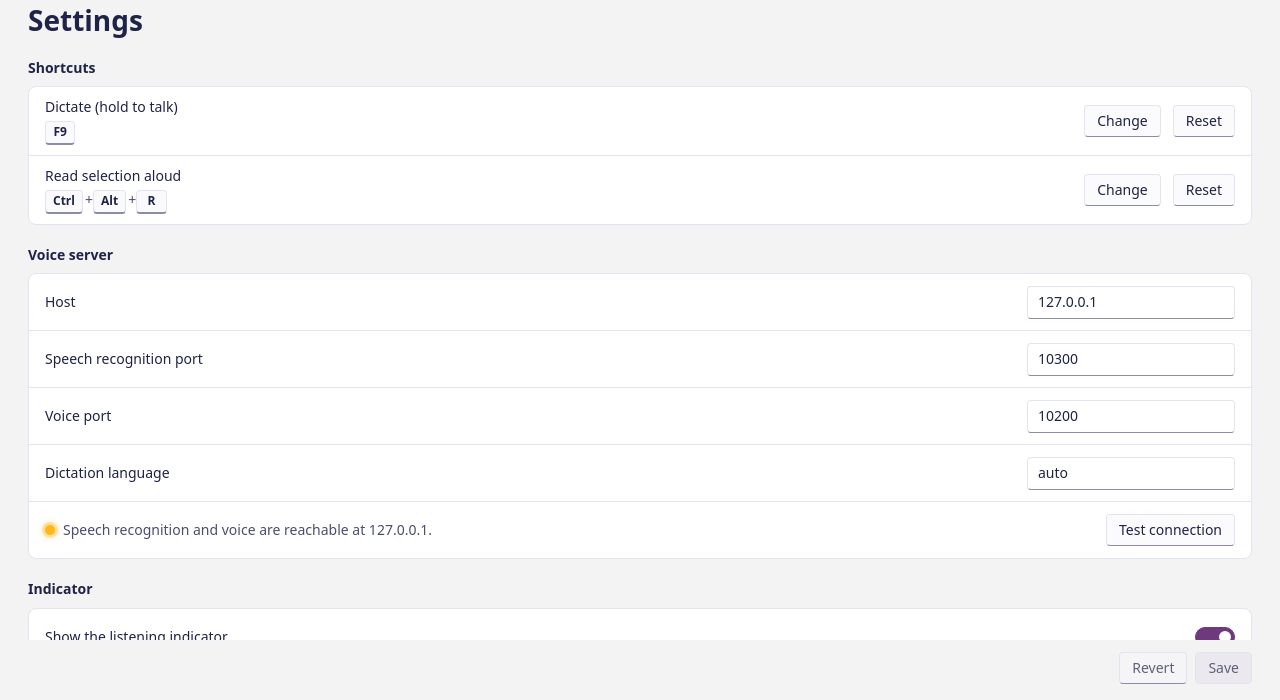
SettingsWindow fields › saves, shows the stored values, and says Saved
Clear the field labelled "Host" at (1131, 302), box left=1027, top=286, right=1235, bottom=318
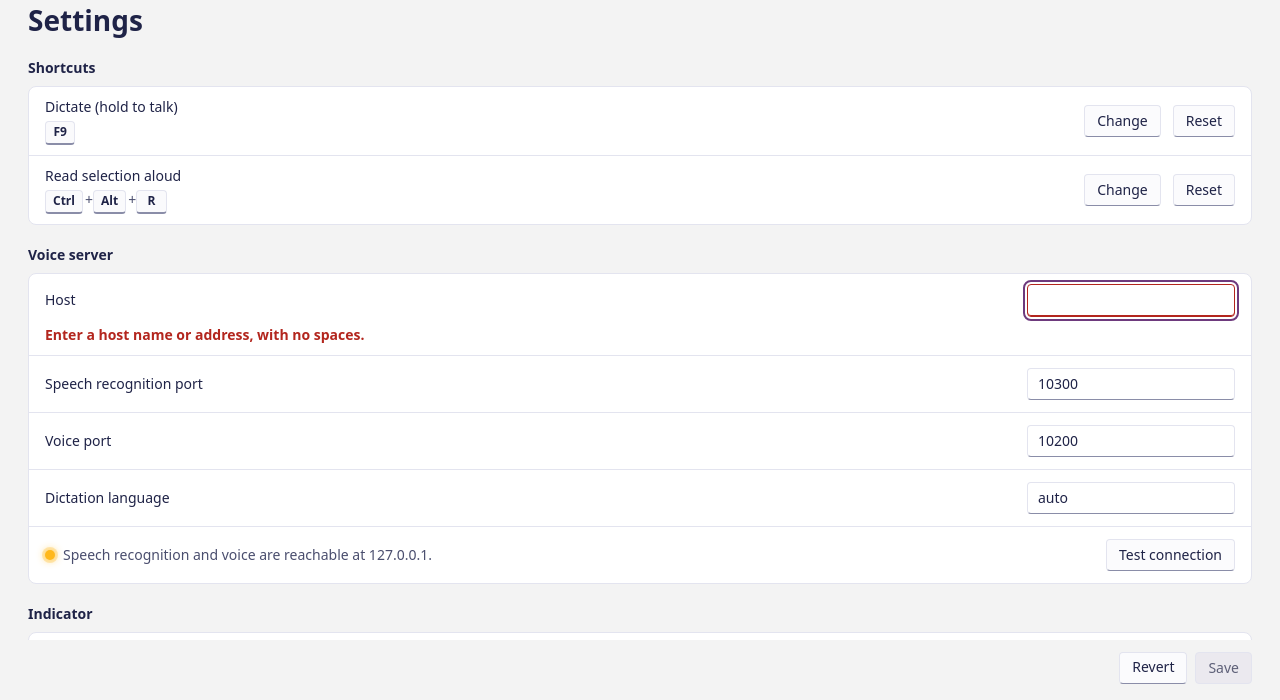
Type "Voice.Local" into the field labelled "Host" at (1131, 301), box left=1027, top=284, right=1235, bottom=317
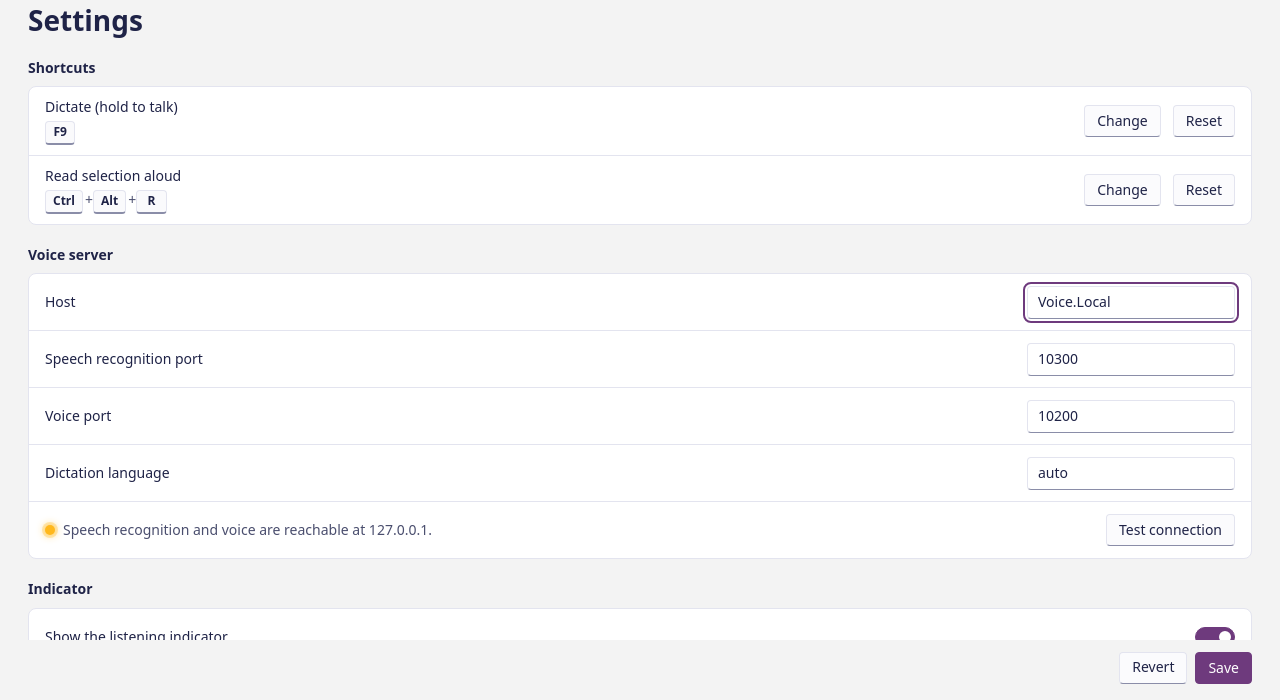
Click the button "Save" at (1224, 668), box left=1195, top=652, right=1252, bottom=684
(page scrolled)
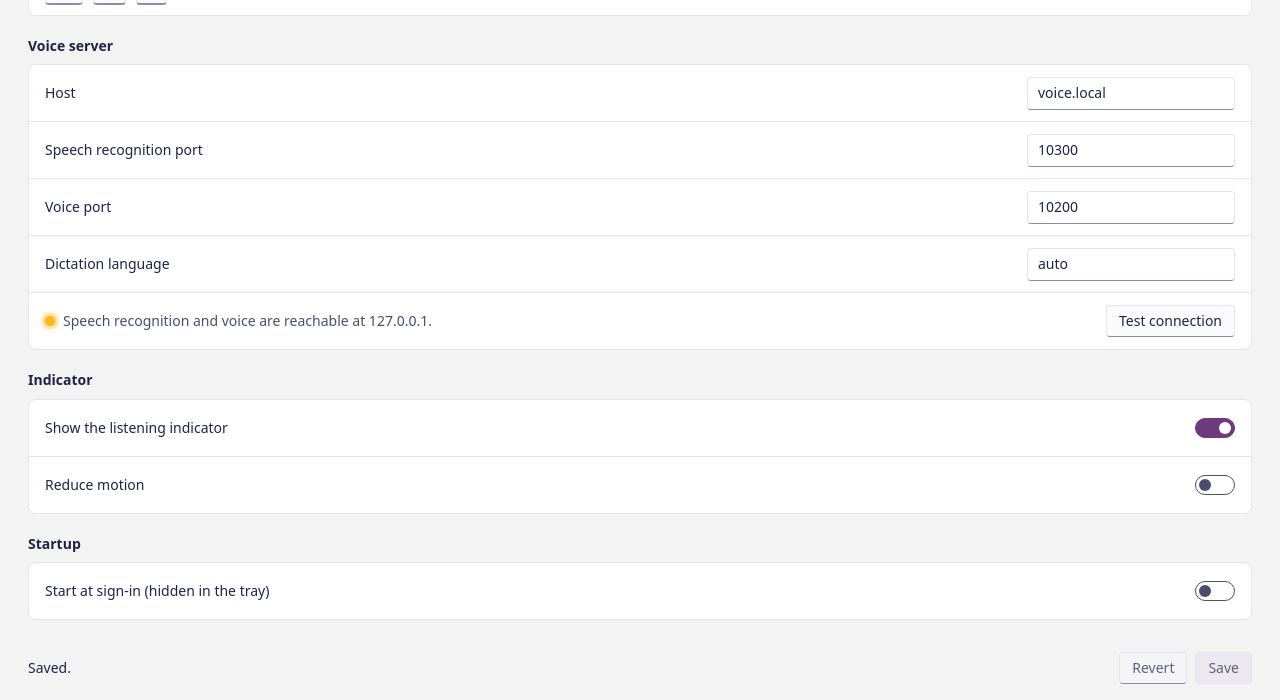
Expected: the button "Save" is disabled, left=1195, top=652, right=1252, bottom=684
Expected: the message "Saved." is shown, left=28, top=658, right=71, bottom=677
